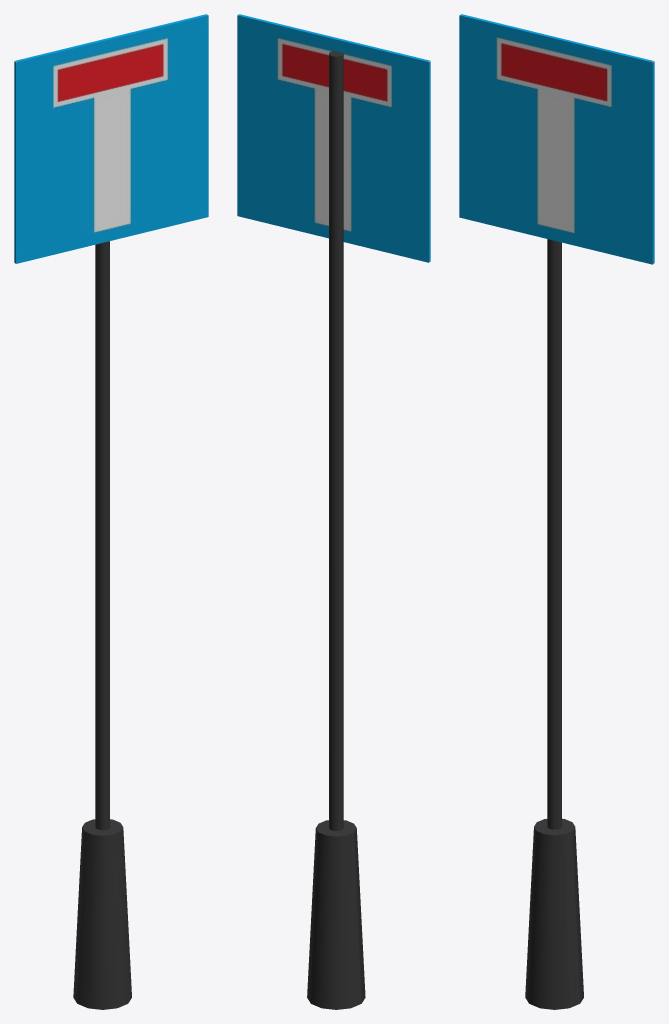
File: sign3.FBX
3 views of the same model, side by side, from view 1: azimuth 30°, elevation 25°; view 2: azimuth 150°, elevation 25°; view 3: azimuth 330°, elevation 25° (orthographic).
Visible parts, largest first — view 1: Rectangle001, Cylinder021; view 2: Rectangle001, Cylinder021; view 3: Rectangle001, Cylinder021.
Boxes of the visible parts, x1,y1,x2,y2 form: Rectangle001: (14,14,208,263); Cylinder021: (73,241,131,1009); Rectangle001: (237,14,430,262); Cylinder021: (307,50,365,1009); Rectangle001: (459,14,654,264); Cylinder021: (525,239,583,1009).
Bounding box in the file's own units: 60 × 286 × 15.85.
